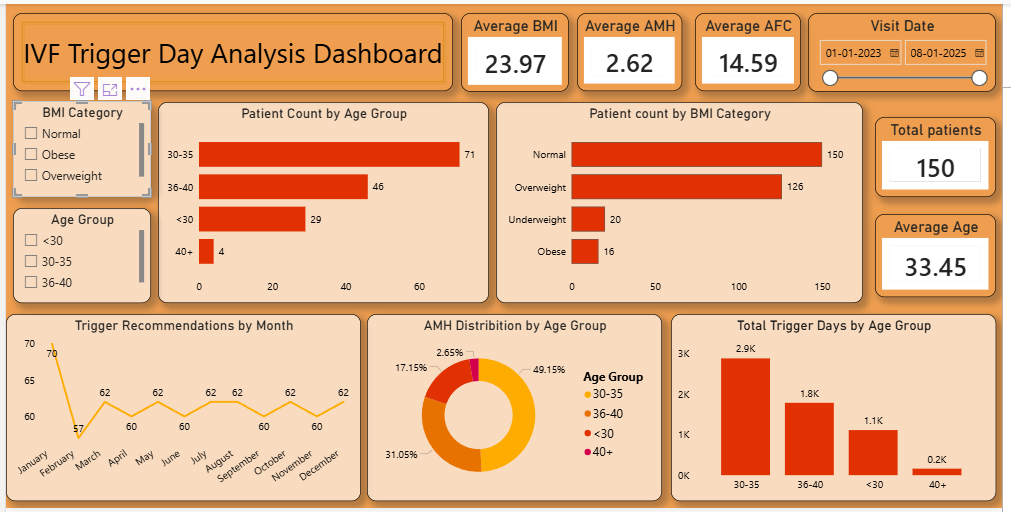

The page's visual inventory and layout, read from the dashboard file:
{"tool":"powerbi","page":{"name":"Page 1","canvas":[1580,800],"ordinal":0},"visuals":[{"type":"lineChart","title":"Trigger Recommendations by Month","fields":{"Y":["CountNonNull(Trigger_Day_new_Dataset.Trigger_Recommended (0/1))"],"Category":["Trigger_Day_new_Dataset.Visit_Date.Variation.Date Hierarchy.Month"]},"box":[0,491.8,563.2,296.6],"z":0},{"type":"barChart","title":" Patient Count by Age Group","fields":{"Y":["Trigger_Day_new_Dataset.Patient Count"],"Category":["Trigger_Day_new_Dataset.Age Group"]},"box":[241.1,155.5,525.1,318.9],"z":1000},{"type":"donutChart","title":"AMH Distribition by Age Group","fields":{"Category":["Trigger_Day_new_Dataset.Age Group"],"Y":["Sum(Trigger_Day_new_Dataset.AMH (ng/mL))"]},"box":[572.7,491.8,468,296.6],"z":2000},{"type":"barChart","title":"Patient count by BMI Category","fields":{"Category":["Trigger_Day_new_Dataset.BMI Category"],"Y":["Trigger_Day_new_Dataset.Patient Count"]},"box":[777.3,155.5,582.2,318.9],"z":3000},{"type":"clusteredColumnChart","title":"Total Trigger Days by Age Group","fields":{"Category":["Trigger_Day_new_Dataset.Age Group"],"Y":["Sum(Trigger_Day_new_Dataset.Day)"]},"box":[1054.9,491.8,515.6,296.6],"z":4000},{"type":"slicer","title":"BMI Category","fields":{"Values":["Trigger_Day_new_Dataset.BMI Category"]},"box":[11.1,153.9,218.9,152.3],"z":5000},{"type":"cardVisual","title":"Average Age","fields":{"Data":["Trigger_Day_new_Dataset.Avg_Age"]},"box":[1378.5,333.1,191.9,131.7],"z":6000},{"type":"cardVisual","title":"Average BMI","fields":{"Data":["Trigger_Day_new_Dataset.Average_BMI"]},"box":[721.8,14.3,171.3,125.3],"z":7000},{"type":"cardVisual","title":"Average AMH","fields":{"Data":["Trigger_Day_new_Dataset.Average_AHM"]},"box":[905.8,14.3,166.6,123.7],"z":8000},{"type":"cardVisual","title":"Average AFC","fields":{"Data":["Trigger_Day_new_Dataset.Average_AFC"]},"box":[1093,14.3,168.2,123.7],"z":9000},{"type":"cardVisual","title":"Total patients","fields":{"Data":["Trigger_Day_new_Dataset.Total_Patients"]},"box":[1378.5,179.3,191.9,126.9],"z":10000},{"type":"shape","box":[11.1,14.3,698,123.7],"z":11000},{"type":"slicer","title":"Visit Date","fields":{"Values":["Trigger_Day_new_Dataset.Visit_Date"]},"box":[1272.2,14.3,298.2,125.3],"z":12000},{"type":"slicer","title":"Age Group ","fields":{"Values":["Trigger_Day_new_Dataset.Age Group"]},"box":[11.1,323.6,218.9,150.7],"z":13000}]}

Visuals, with their boxes in screenshot pixels (x1, y1, x2, y2), scaled from the page's 1580x800 canvas onto the 1011x512 screenshot:
"Trigger Recommendations by Month" lineChart: bbox(0, 315, 360, 505)
" Patient Count by Age Group" barChart: bbox(154, 100, 490, 304)
"AMH Distribition by Age Group" donutChart: bbox(366, 315, 666, 505)
"Patient count by BMI Category" barChart: bbox(497, 100, 870, 304)
"Total Trigger Days by Age Group" clusteredColumnChart: bbox(675, 315, 1005, 505)
"BMI Category" slicer: bbox(7, 98, 147, 196)
"Average Age" cardVisual: bbox(882, 213, 1005, 297)
"Average BMI" cardVisual: bbox(462, 9, 571, 89)
"Average AMH" cardVisual: bbox(580, 9, 686, 88)
"Average AFC" cardVisual: bbox(699, 9, 807, 88)
"Total patients" cardVisual: bbox(882, 115, 1005, 196)
shape: bbox(7, 9, 454, 88)
"Visit Date" slicer: bbox(814, 9, 1005, 89)
"Age Group " slicer: bbox(7, 207, 147, 304)
